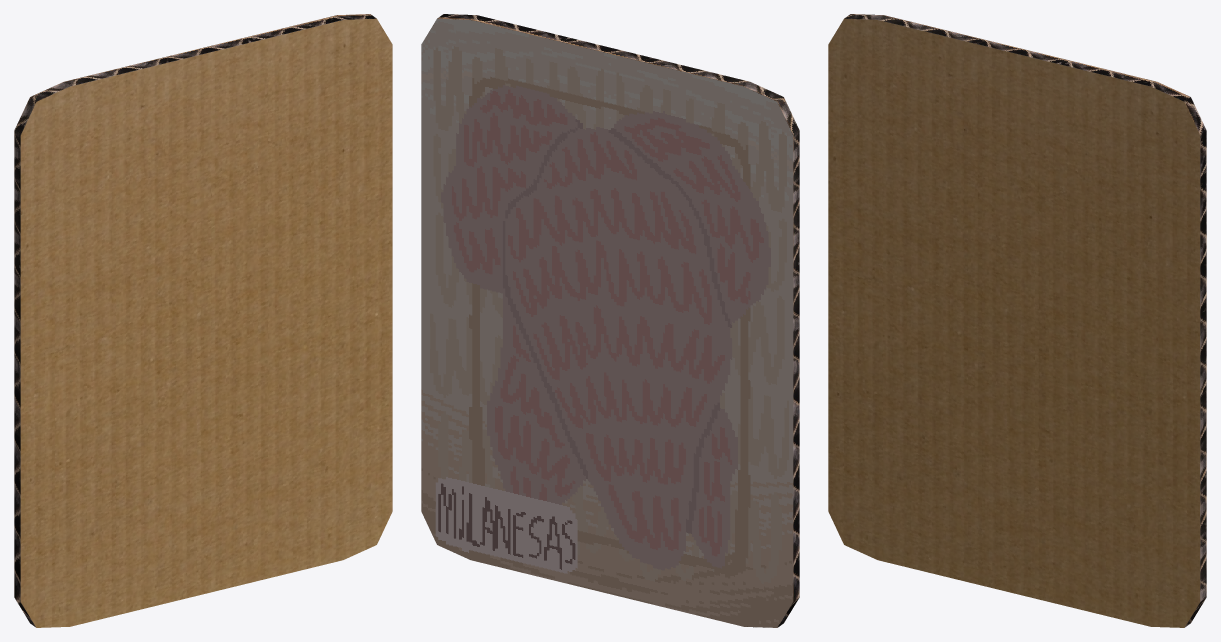
File: MILANESAS.glb
3 renders of one model, left to right at view 1: azimuth 30°, elevation 25°; view 2: azimuth 150°, elevation 25°; view 3: azimuth 330°, elevation 25°, orthographic.
Visible parts, largest first — view 1: MILANESA; view 2: MILANESA; view 3: MILANESA.
Boxes of the visible parts, x1,y1,x2,y2 form: MILANESA: [14, 14, 392, 627]; MILANESA: [421, 14, 799, 627]; MILANESA: [828, 14, 1206, 627].
Bounding box in the file's own units: 2.98 × 4.14 × 0.09.
Materials: 1 (1 with a texture image).
